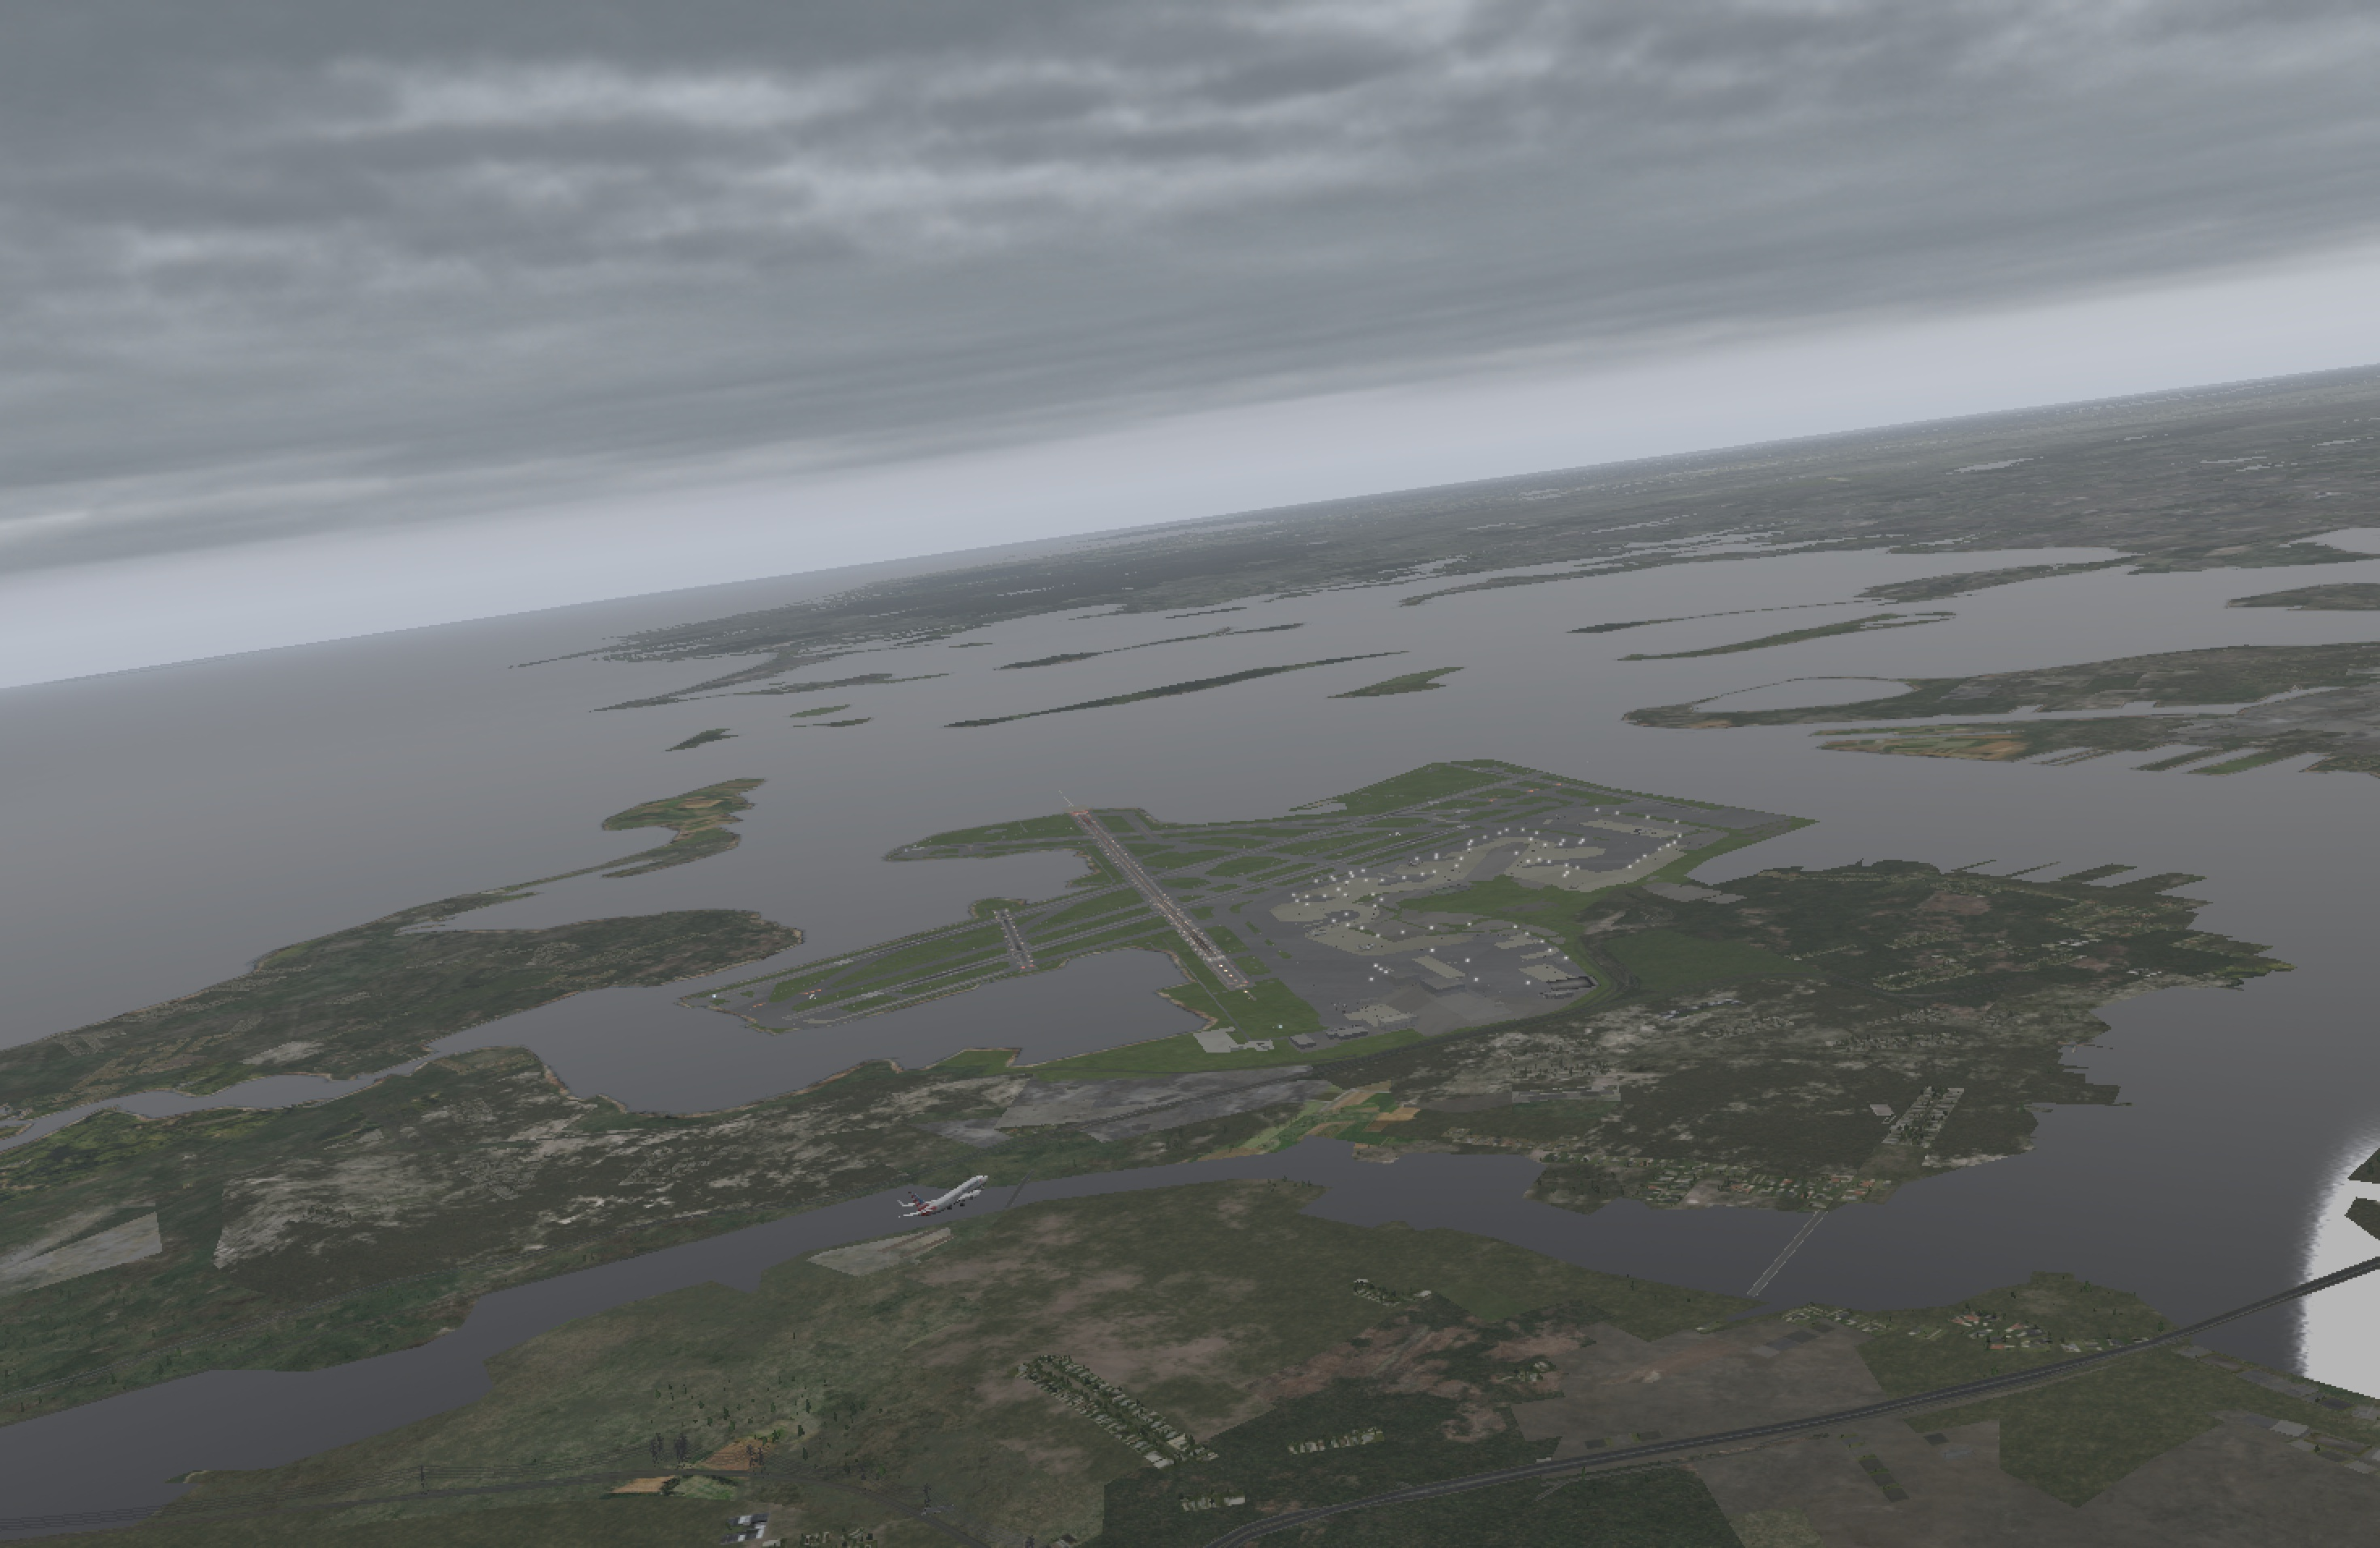aircraft: (897, 1175, 1015, 1220)
